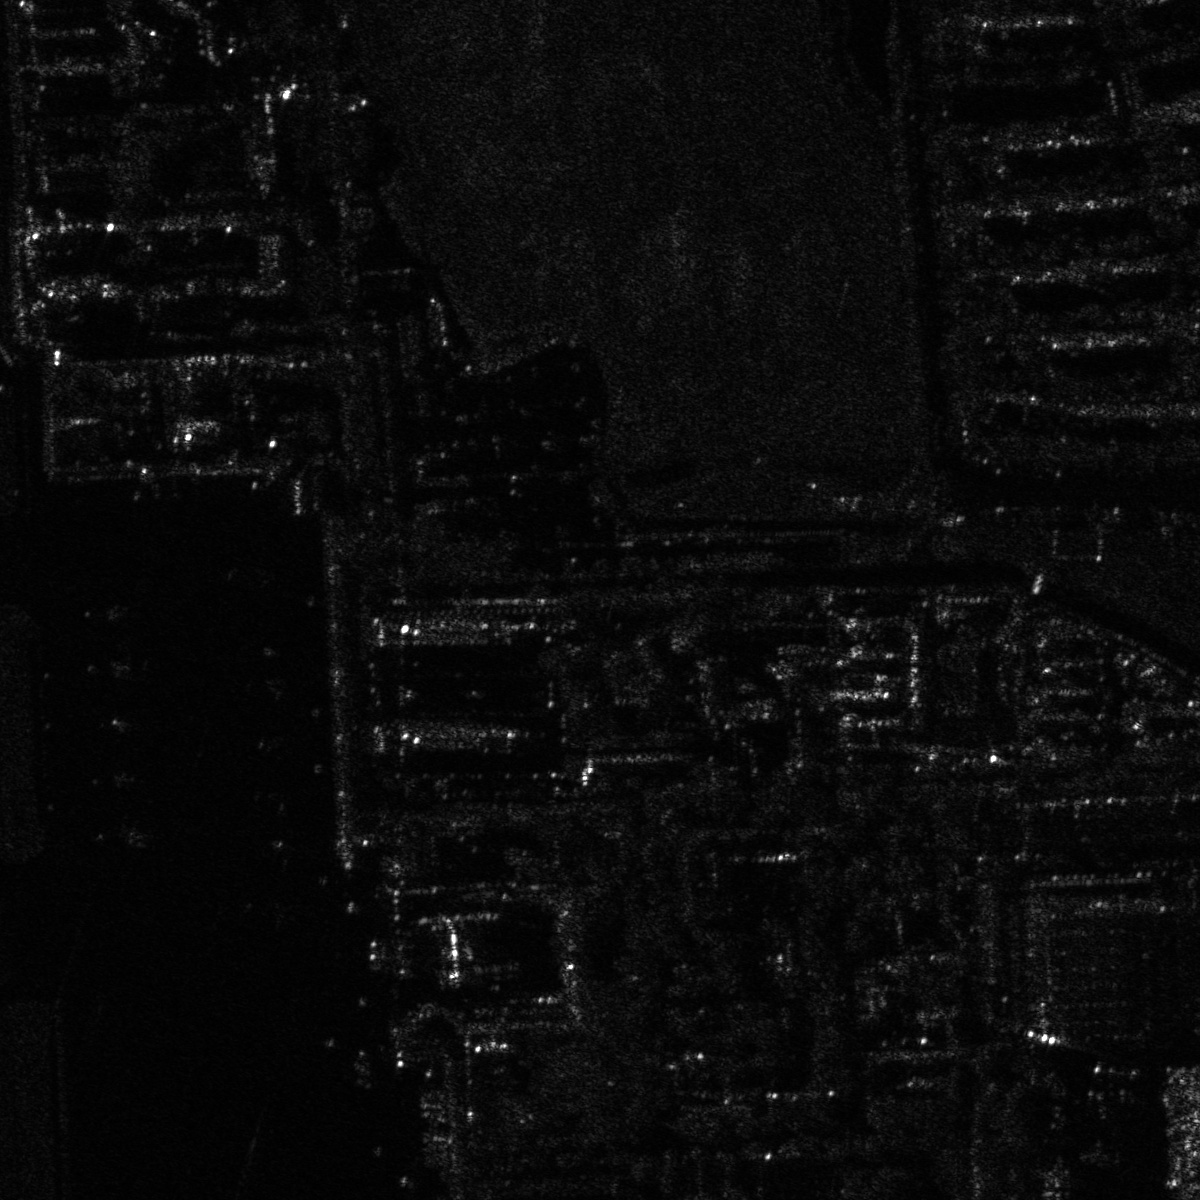ARJ21: (84, 649, 140, 686), (97, 704, 148, 741)
Boeing737: (1074, 1082, 1147, 1169)
other: (85, 759, 145, 799), (91, 814, 154, 852), (82, 592, 136, 629)
